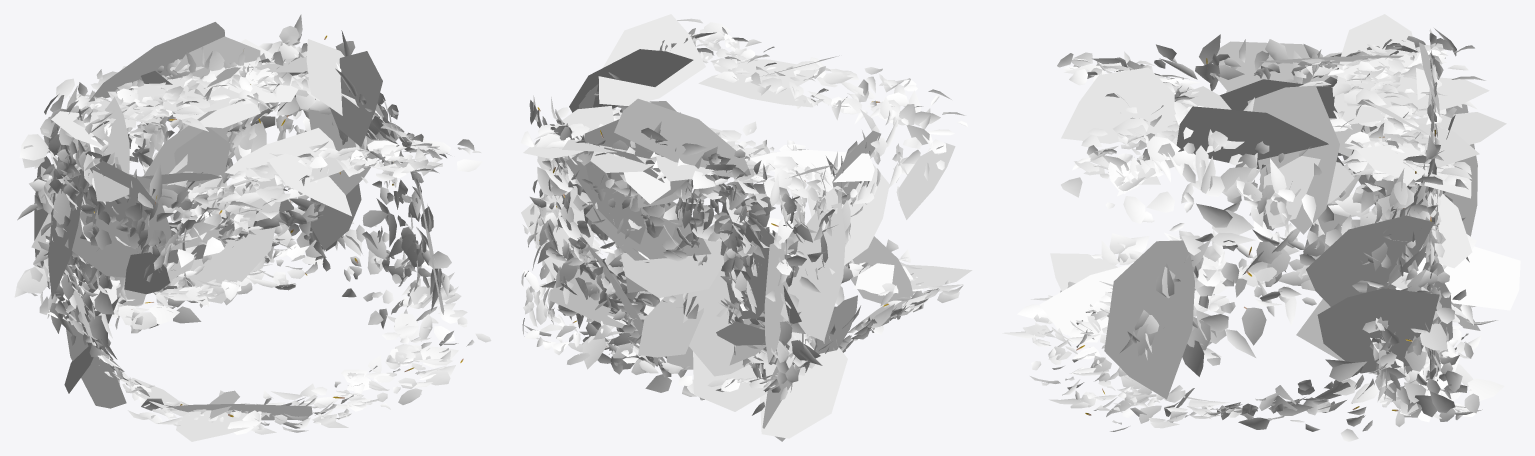
The model's file is Foliage.fbx.
The picture shows the model from 3 angles, left to right: view 1: azimuth 30°, elevation 25°; view 2: azimuth 150°, elevation 25°; view 3: azimuth 270°, elevation 25°; orthographic projection. The views are drawn at different scales.
Visible parts, largest first — view 1: Instance_677, Instance_1670, Instance_1896, Instance_470, Instance_1791, Instance_1030, Instance_1907, Instance_1785, Instance_1538, Instance_1441, Instance_1496, Instance_1663 (+19 smaller); view 2: Instance_1496, Instance_470, Instance_1896, Instance_1442, Instance_1040, Instance_897, Instance_1907, Instance_1071, Instance_1032, Instance_1670, Instance_904, Instance_1538 (+24 smaller); view 3: Instance_1985, Instance_350, Instance_372, Instance_1791, Instance_1896, Instance_1907, Instance_1071, Instance_1586, Instance_1663, Instance_1337, Instance_1918, Instance_15 (+17 smaller).
Boxes of the visible parts, left/top/right/bottom form: Instance_677: left=170, top=177, right=283, bottom=303; Instance_1670: left=65, top=174, right=171, bottom=277; Instance_1896: left=330, top=51, right=382, bottom=147; Instance_470: left=88, top=22, right=224, bottom=101; Instance_1791: left=267, top=153, right=351, bottom=216; Instance_1030: left=174, top=127, right=230, bottom=207; Instance_1907: left=306, top=39, right=344, bottom=115; Instance_1785: left=225, top=128, right=335, bottom=177; Instance_1538: left=92, top=97, right=129, bottom=201; Instance_1441: left=65, top=299, right=126, bottom=408; Instance_1496: left=48, top=176, right=83, bottom=299; Instance_1663: left=78, top=161, right=154, bottom=228; Instance_1496: left=780, top=203, right=845, bottom=341; Instance_470: left=614, top=98, right=750, bottom=177; Instance_1896: left=598, top=14, right=705, bottom=105; Instance_1442: left=760, top=332, right=847, bottom=438; Instance_1040: left=620, top=238, right=724, bottom=297; Instance_897: left=683, top=269, right=752, bottom=376; Instance_1907: left=569, top=49, right=693, bottom=112; Instance_1071: left=638, top=293, right=703, bottom=357; Instance_1032: left=585, top=201, right=711, bottom=260; Instance_1670: left=806, top=163, right=889, bottom=274; Instance_904: left=693, top=351, right=805, bottom=411; Instance_1538: left=749, top=149, right=874, bottom=182; Instance_1985: left=1104, top=240, right=1194, bottom=399; Instance_350: left=1317, top=288, right=1439, bottom=373; Instance_372: left=1306, top=215, right=1434, bottom=306; Instance_1791: left=1061, top=67, right=1174, bottom=143; Instance_1896: left=1176, top=106, right=1343, bottom=169; Instance_1907: left=1247, top=85, right=1339, bottom=234; Instance_1071: left=1416, top=245, right=1520, bottom=310; Instance_1586: left=1334, top=74, right=1489, bottom=124; Instance_1663: left=1212, top=41, right=1362, bottom=156; Instance_1337: left=1039, top=265, right=1130, bottom=337; Instance_1918: left=1263, top=156, right=1354, bottom=225; Instance_15: left=1356, top=145, right=1471, bottom=198.
Bounding box in the file's own units: 559 × 512 × 613.
3 materials, 1 textured.
